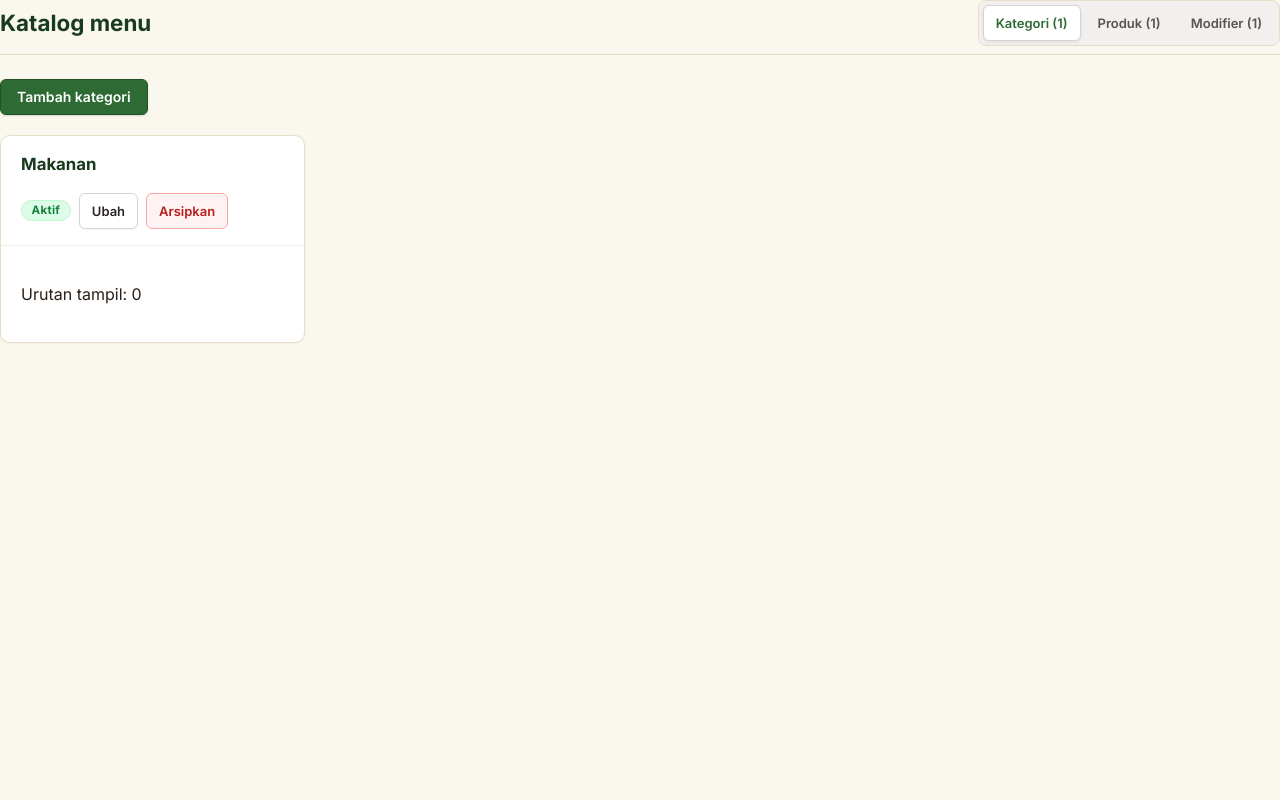
Test: CatalogPage › surfaces a validation error without clearing the editor
Click the button "Tambah kategori" at [74, 97], box [0, 79, 148, 114]
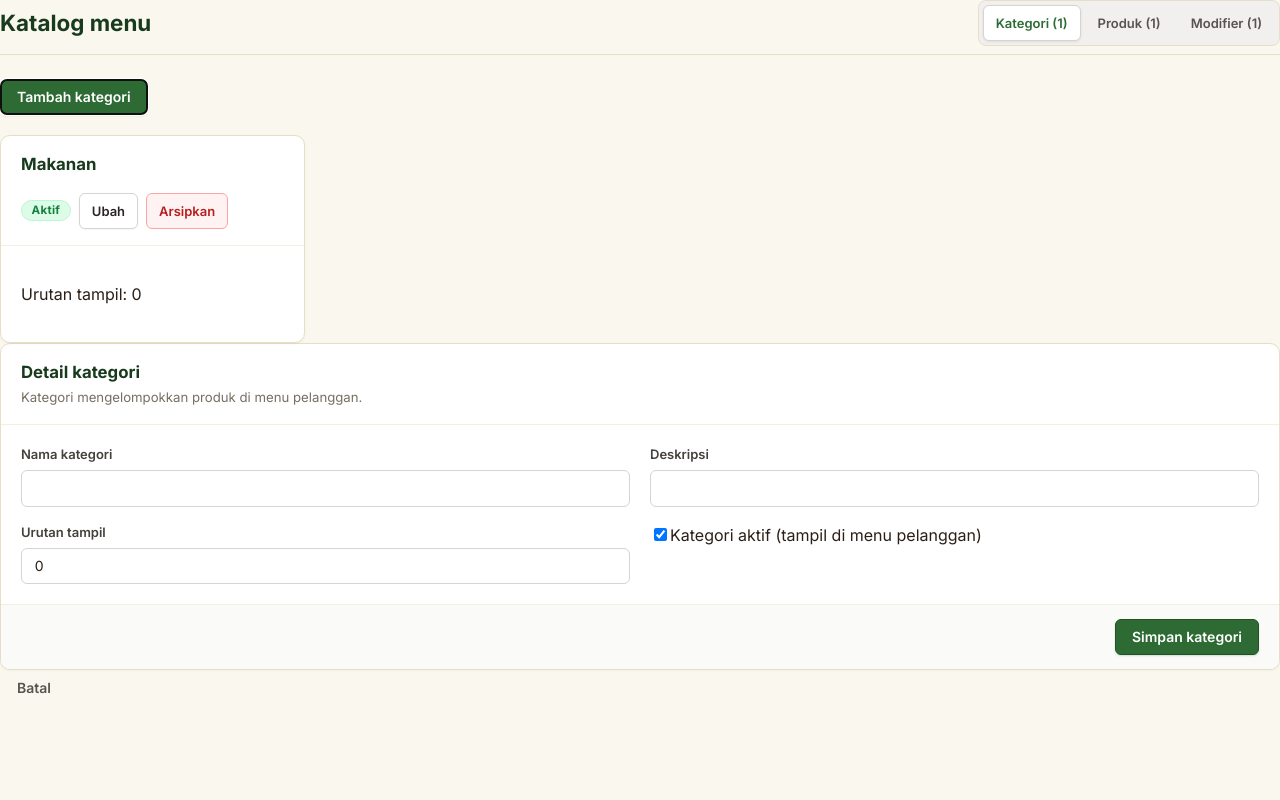
Click the button "Simpan kategori" at [1187, 637], box [1115, 619, 1259, 655]
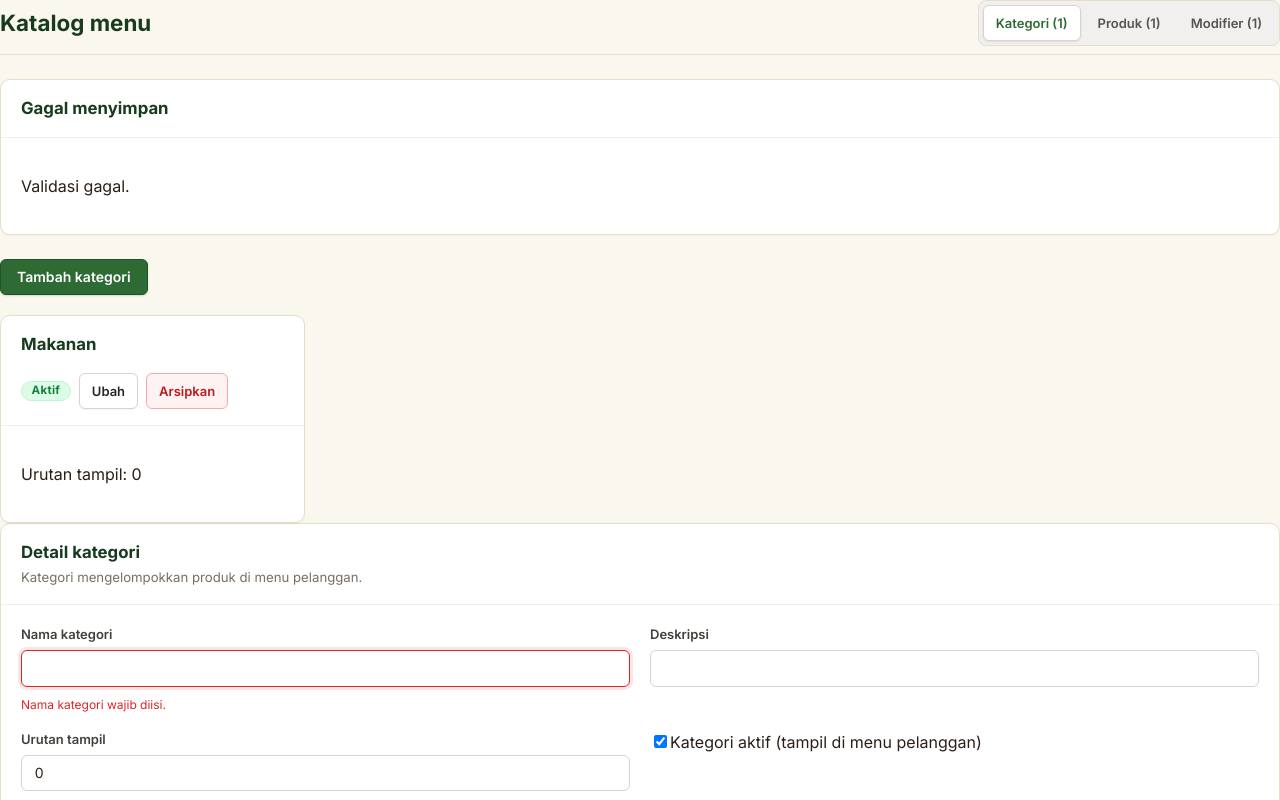
Result: the text "Nama kategori wajib diisi." is shown at [21, 696, 166, 712]
